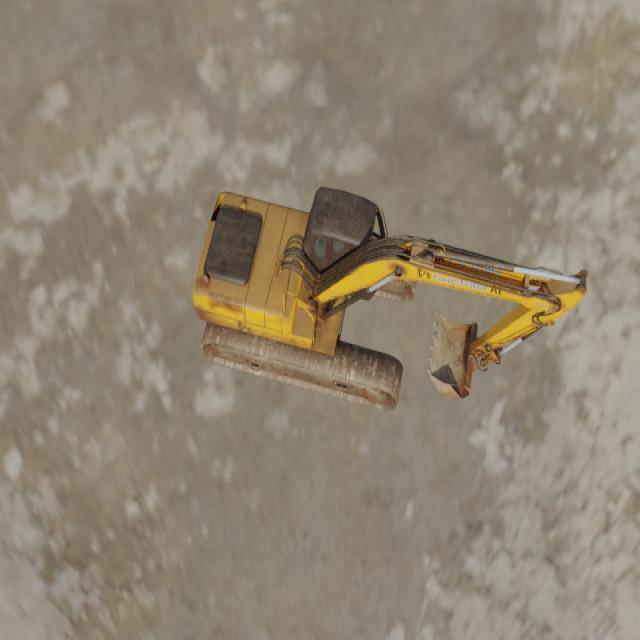excavator: (192, 185, 588, 411)
